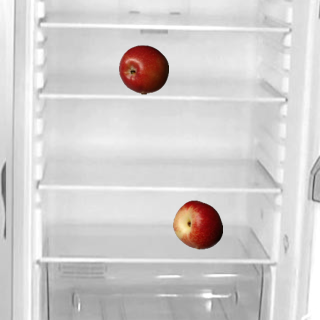Apple Braeburn: (118, 44, 168, 94)
Nectarine: (172, 199, 222, 249)
